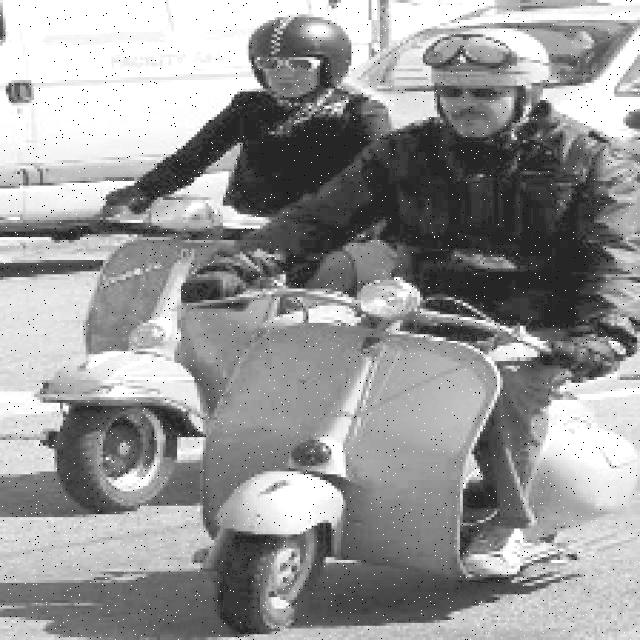Bike: (202, 283, 562, 639), (50, 193, 271, 495)
